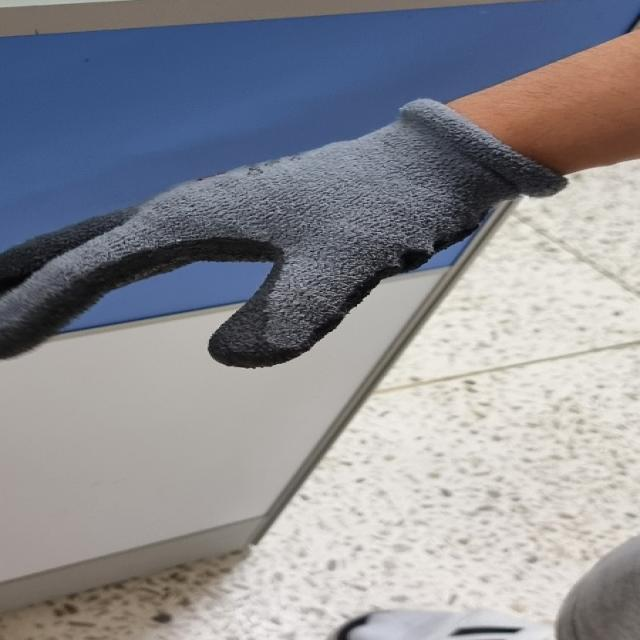Gloves: (3, 93, 640, 369)
